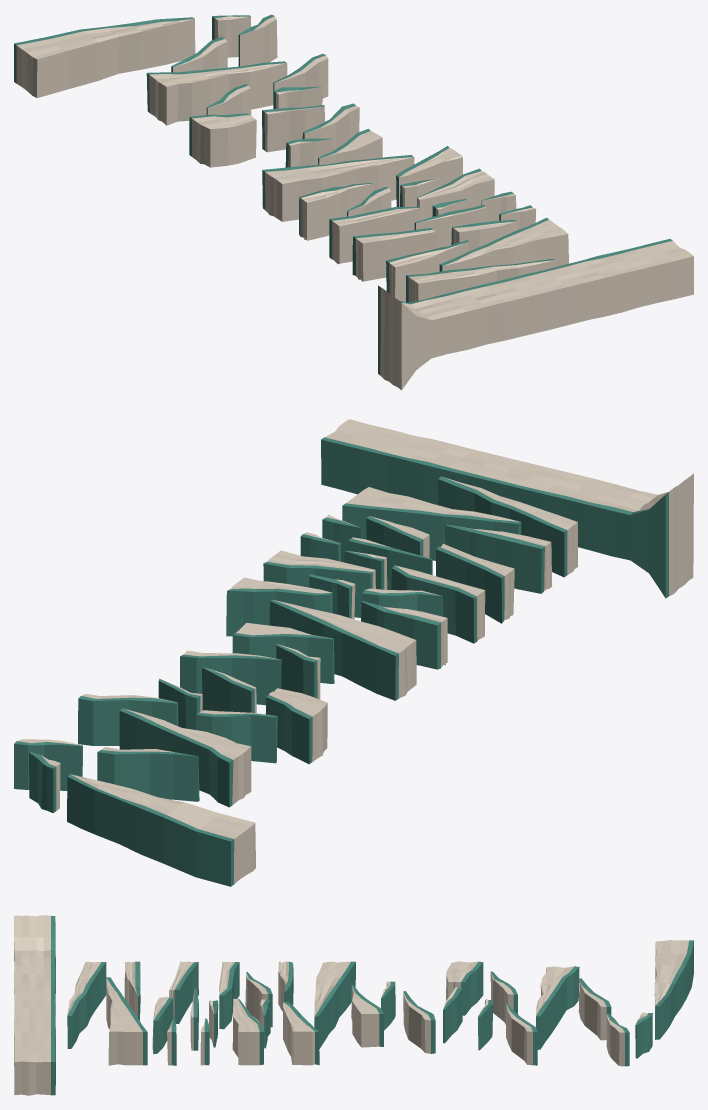
File: contra_level_5_platforms.fbx
3 views of the same model, one above another, from view 1: azimuth 30°, elevation 25°; view 2: azimuth 150°, elevation 25°; view 3: azimuth 270°, elevation 25° (orthographic). The views are drawn at different scales.
Parts seen in each view (by area): view 1: Ground, Ground.029, Ground.025, Ground.016, Ground.002, Ground.021, Ground.001, Ground.005, Ground.010, Ground.014, Ground.020, Ground.003 (+16 smaller); view 2: Ground, Ground.029, Ground.016, Ground.025, Ground.002, Ground.001, Ground.026, Ground.003, Ground.021, Ground.015, Ground.010, Ground.024 (+18 smaller); view 3: Ground, Ground.029, Ground.002, Ground.016, Ground.025, Ground.001, Ground.015, Ground.011, Ground.017, Ground.021, Ground.019, Ground.024 (+18 smaller).
Boxes of the visible parts, left/top/right/bottom form: Ground: left=378, top=239, right=693, bottom=390; Ground.029: left=14, top=17, right=195, bottom=97; Ground.025: left=146, top=61, right=287, bottom=125; Ground.016: left=262, top=155, right=414, bottom=221; Ground.002: left=439, top=217, right=568, bottom=271; Ground.021: left=189, top=113, right=256, bottom=167; Ground.001: left=406, top=259, right=555, bottom=302; Ground.005: left=352, top=228, right=436, bottom=281; Ground.010: left=329, top=206, right=419, bottom=264; Ground.014: left=299, top=183, right=372, bottom=240; Ground.020: left=262, top=105, right=324, bottom=152; Ground.003: left=386, top=240, right=468, bottom=301; Ground: left=321, top=419, right=693, bottom=598; Ground.029: left=67, top=774, right=255, bottom=886; Ground.016: left=269, top=600, right=416, bottom=700; Ground.025: left=119, top=708, right=251, bottom=807; Ground.002: left=342, top=487, right=521, bottom=560; Ground.001: left=438, top=476, right=577, bottom=577; Ground.026: left=97, top=747, right=199, bottom=801; Ground.003: left=444, top=524, right=552, bottom=593; Ground.021: left=265, top=688, right=327, bottom=764; Ground.015: left=226, top=577, right=332, bottom=636; Ground.010: left=391, top=565, right=485, bottom=643; Ground.024: left=78, top=694, right=178, bottom=745; Ground: left=14, top=915, right=55, bottom=1095; Ground.029: left=654, top=940, right=693, bottom=1039; Ground.002: left=106, top=977, right=147, bottom=1065; Ground.016: left=314, top=961, right=355, bottom=1048; Ground.025: left=536, top=966, right=579, bottom=1049; Ground.001: left=67, top=961, right=106, bottom=1048; Ground.015: left=282, top=1002, right=319, bottom=1065; Ground.011: left=232, top=998, right=264, bottom=1065; Ground.017: left=351, top=985, right=383, bottom=1047; Ground.021: left=446, top=961, right=483, bottom=1015; Ground.019: left=403, top=991, right=435, bottom=1053; Ground.024: left=506, top=1003, right=537, bottom=1065.
Size of the model in its own units: 6413 by 1885 by 14797.
